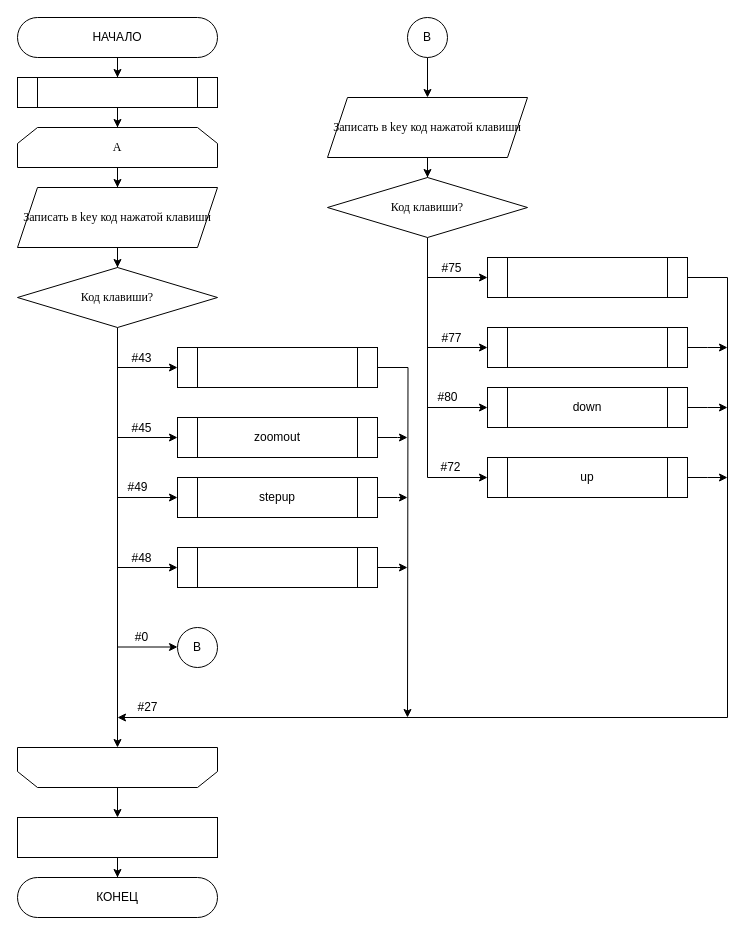
The diagram is 753 pixels wide and 935 high, and some of its shapes have lost their labels. Each missing label, with the centre of its shape:
A Нажата клавиша Esc: point 117,767
closegraph: point 117,837
init();: point 117,92
left: point 587,277
right: point 587,347
stepdown: point 277,567
zoomin: point 277,367
